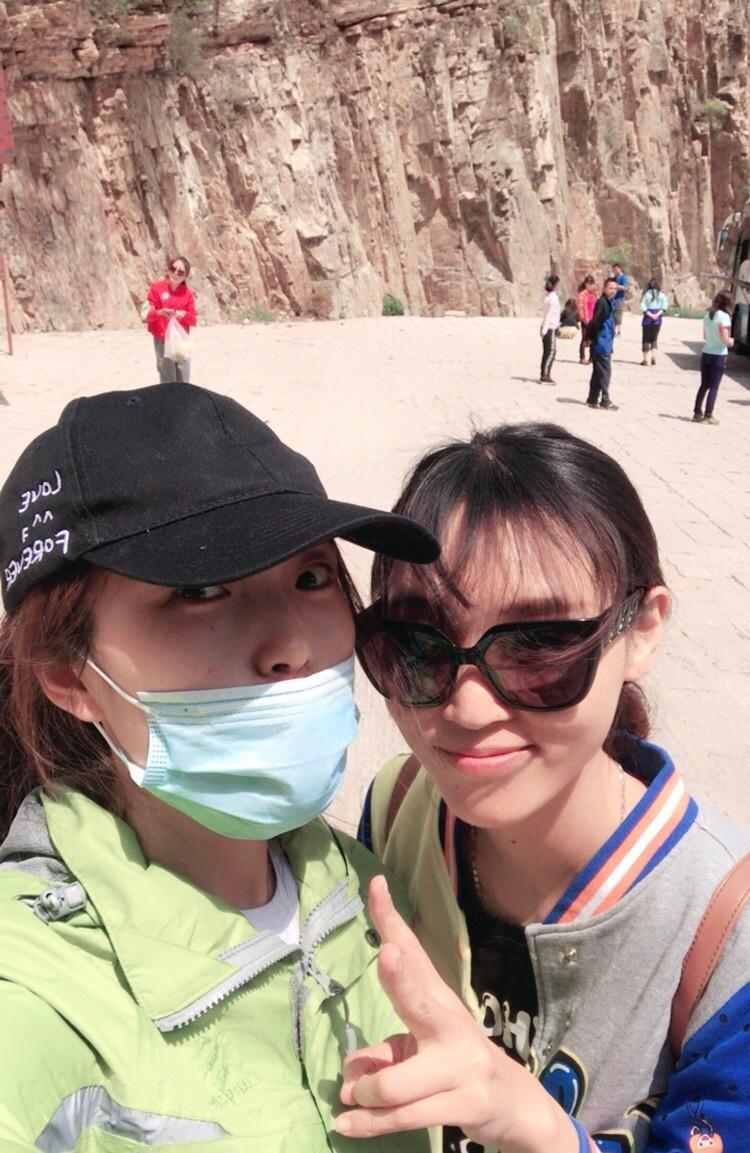NONE: (394, 591, 627, 834), (170, 265, 186, 285)
WRONG: (72, 528, 377, 833)
